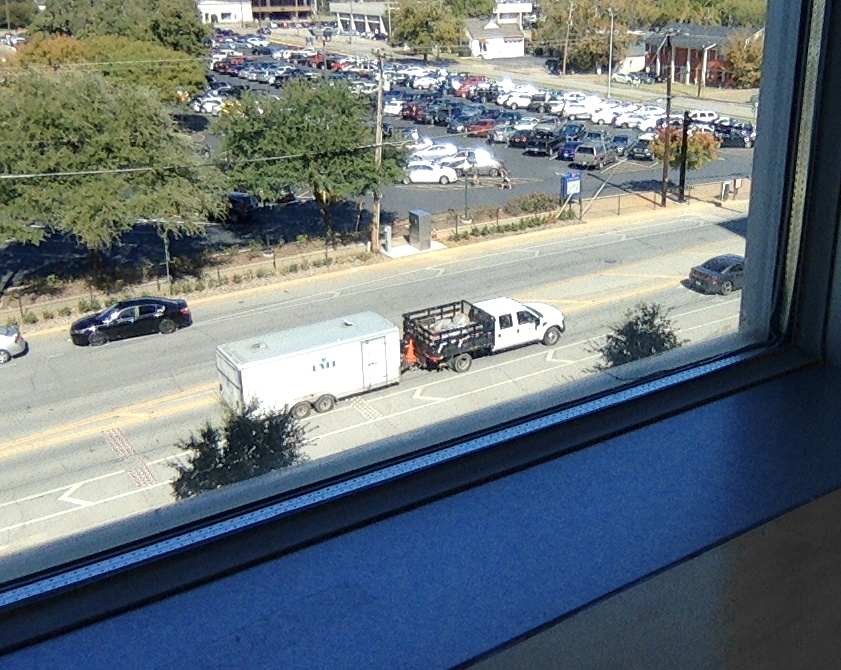car: (300, 300, 541, 383)
